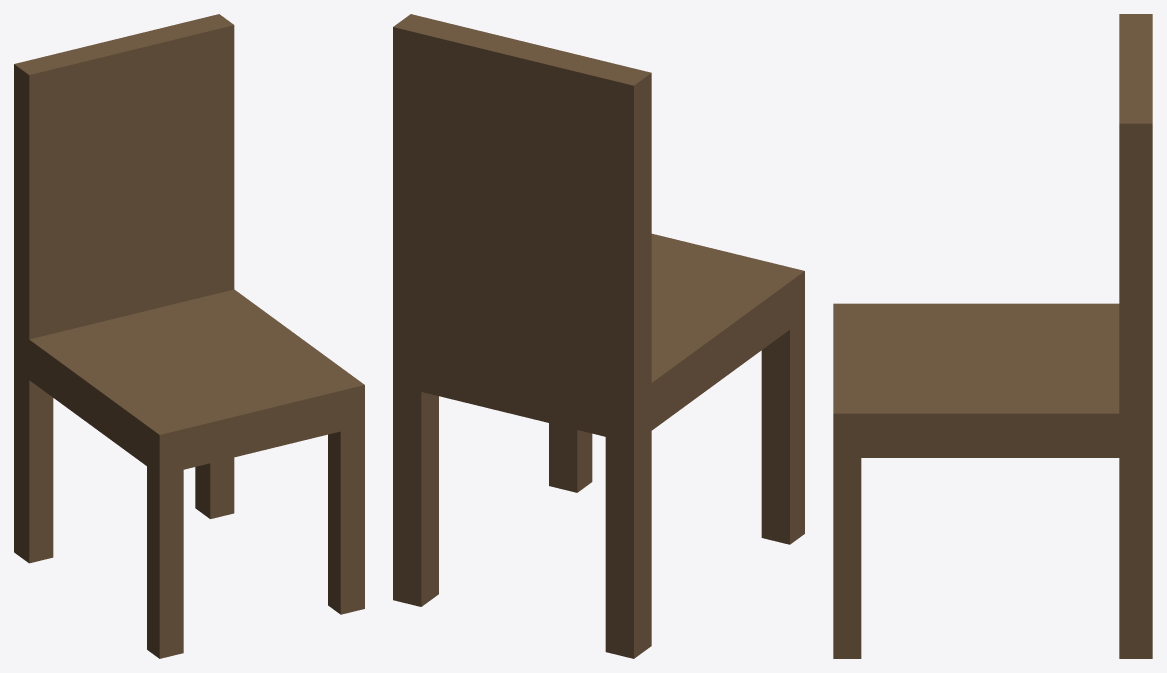
The model's file is Sandalye.fbx.
3 renders of one model, left to right at view 1: azimuth 30°, elevation 25°; view 2: azimuth 150°, elevation 25°; view 3: azimuth 270°, elevation 25°, orthographic. The views are drawn at different scales.
Parts seen in each view (by area): view 1: Çalışma_Odası Sandayle; view 2: Çalışma_Odası Sandayle; view 3: Çalışma_Odası Sandayle.
Boxes of the visible parts, <box> form: Çalışma_Odası Sandayle: <box>14,14,364,658</box>; Çalışma_Odası Sandayle: <box>393,14,804,658</box>; Çalışma_Odası Sandayle: <box>833,14,1152,658</box>.
Size of the model in its own units: 74.62 by 170 by 91.71.
